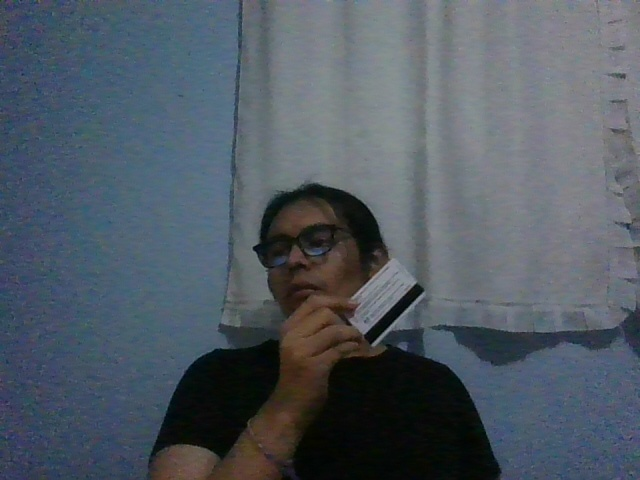tarjeta: (344, 257, 426, 348)
